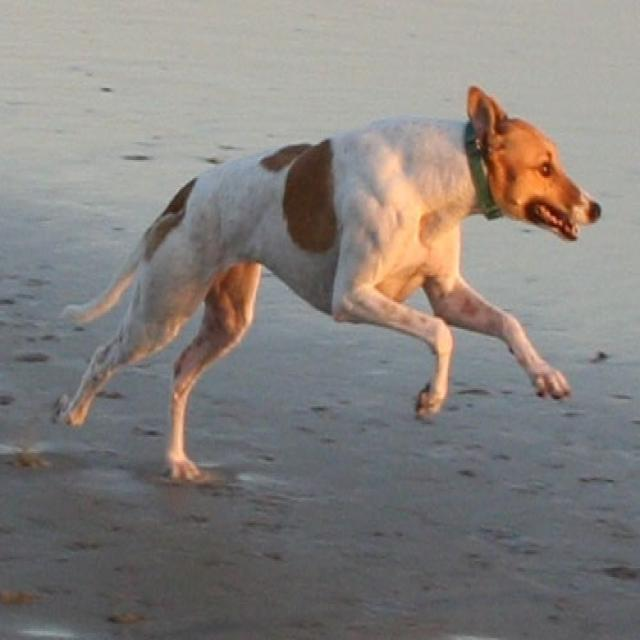dog: (54, 81, 598, 483)
